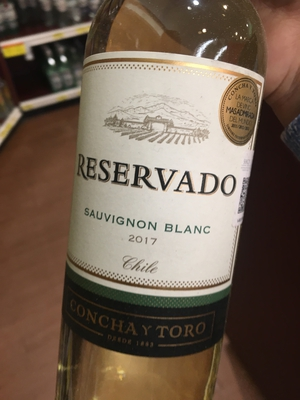reservado sauvignon blanc: (63, 16, 263, 399)
